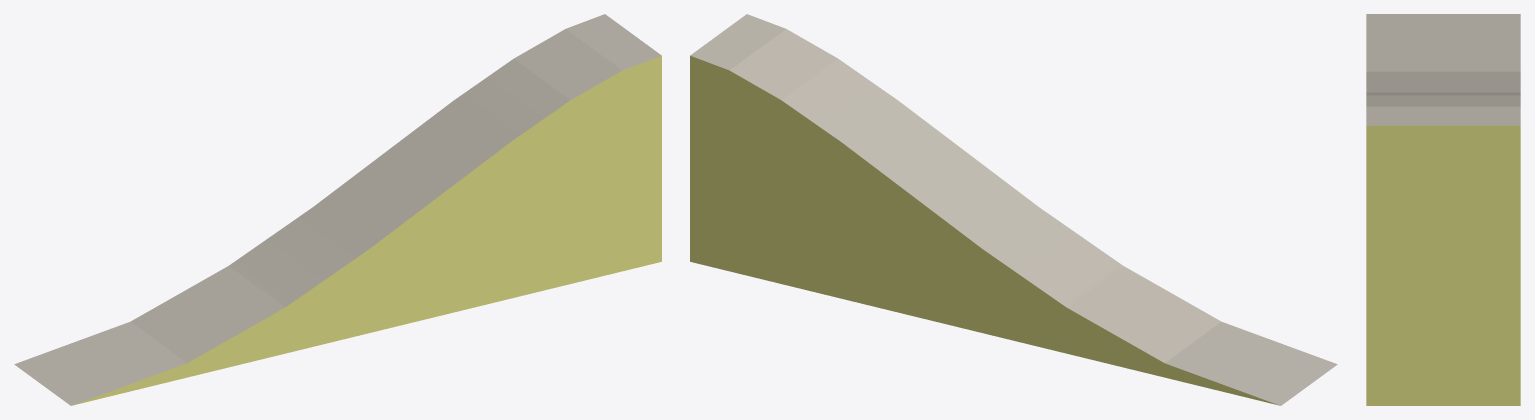
File: Floor_Incline_1x6.glb
The picture shows the model from 3 angles, left to right: view 1: azimuth 30°, elevation 25°; view 2: azimuth 150°, elevation 25°; view 3: azimuth 270°, elevation 25°; orthographic projection. The views are drawn at different scales.
Parts seen in each view (by area): view 1: Floor_Incline_1x6; view 2: Floor_Incline_1x6; view 3: Floor_Incline_1x6.
Part boxes in pixels (<box>): Floor_Incline_1x6: <box>14,14,661,405</box>; Floor_Incline_1x6: <box>690,14,1337,405</box>; Floor_Incline_1x6: <box>1366,14,1520,405</box>.
Size of the model in its own units: 600 by 200 by 100.
